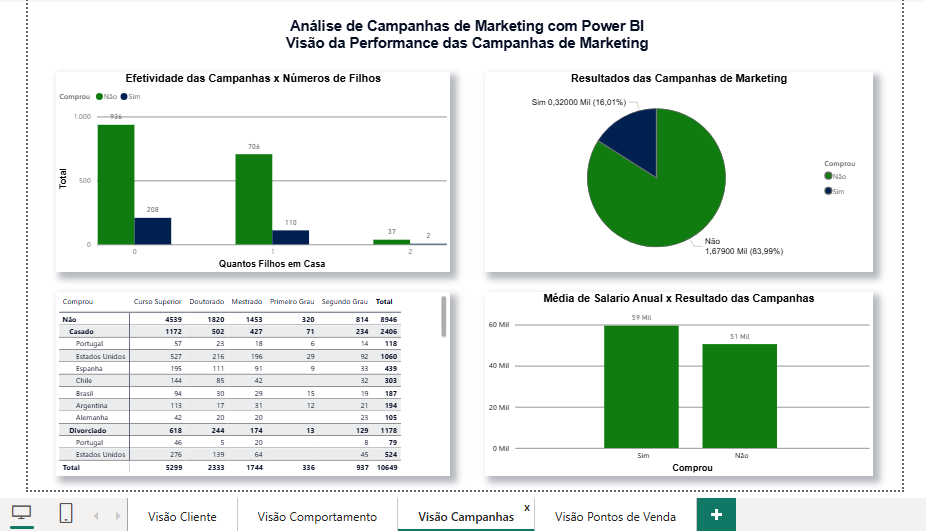

This screenshot's page, from the dashboard's own definition file:
{"tool":"powerbi","page":{"name":"Visão Campanhas","canvas":[1280,720],"ordinal":2},"visuals":[{"type":"textbox","box":[342.4,24.9,600,83.4],"z":0},{"type":"pieChart","title":"Resultados das Campanhas de Marketing","fields":{"Category":["DadosMarketing.Comprou"],"Y":["CountNonNull(DadosMarketing.ID)"]},"box":[668.8,108.3,567.8,292.7],"z":1000},{"type":"clusteredColumnChart","title":"Média de Salario Anual x Resultado das Campanhas","fields":{"Category":["DadosMarketing.Comprou"],"Y":["Avg(DadosMarketing.Salario Anual)"]},"box":[668.8,430.2,567.8,269.3],"z":2000},{"type":"pivotTable","fields":{"Values":["Sum(DadosMarketing.Numero Visitas WebSite Mes)"],"Columns":["DadosMarketing.Escolaridade"],"Rows":["DadosMarketing.Comprou","DadosMarketing.Estado Civil","DadosMarketing.Pais"]},"box":[41,430.2,576.6,269.3],"z":3000},{"type":"clusteredColumnChart","title":"Efetividade das Campanhas x Números de Filhos","fields":{"Category":["DadosMarketing.Filhos em Casa"],"Series":["DadosMarketing.Comprou"],"Y":["CountNonNull(DadosMarketing.Filhos em Casa)"]},"box":[41,108,577,293],"z":3001}]}

Visuals, with their boxes on the page's 1280x720 design canvas (x1, y1, x2, y2). These are canvas units, not pixel positions in the 926x531 screenshot, which may show the page scaled, cropped or inside an application window:
textbox: bbox=[342, 25, 942, 108]
"Resultados das Campanhas de Marketing" pieChart: bbox=[669, 108, 1237, 401]
"Média de Salario Anual x Resultado das Campanhas" clusteredColumnChart: bbox=[669, 430, 1237, 700]
pivotTable - Sum(DadosMarketing.Numero Visitas WebSite Mes) x DadosMarketing.Escolaridade: bbox=[41, 430, 618, 700]
"Efetividade das Campanhas x Números de Filhos" clusteredColumnChart: bbox=[41, 108, 618, 401]
